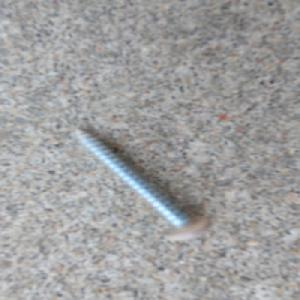Screw: (68, 122, 215, 241)
